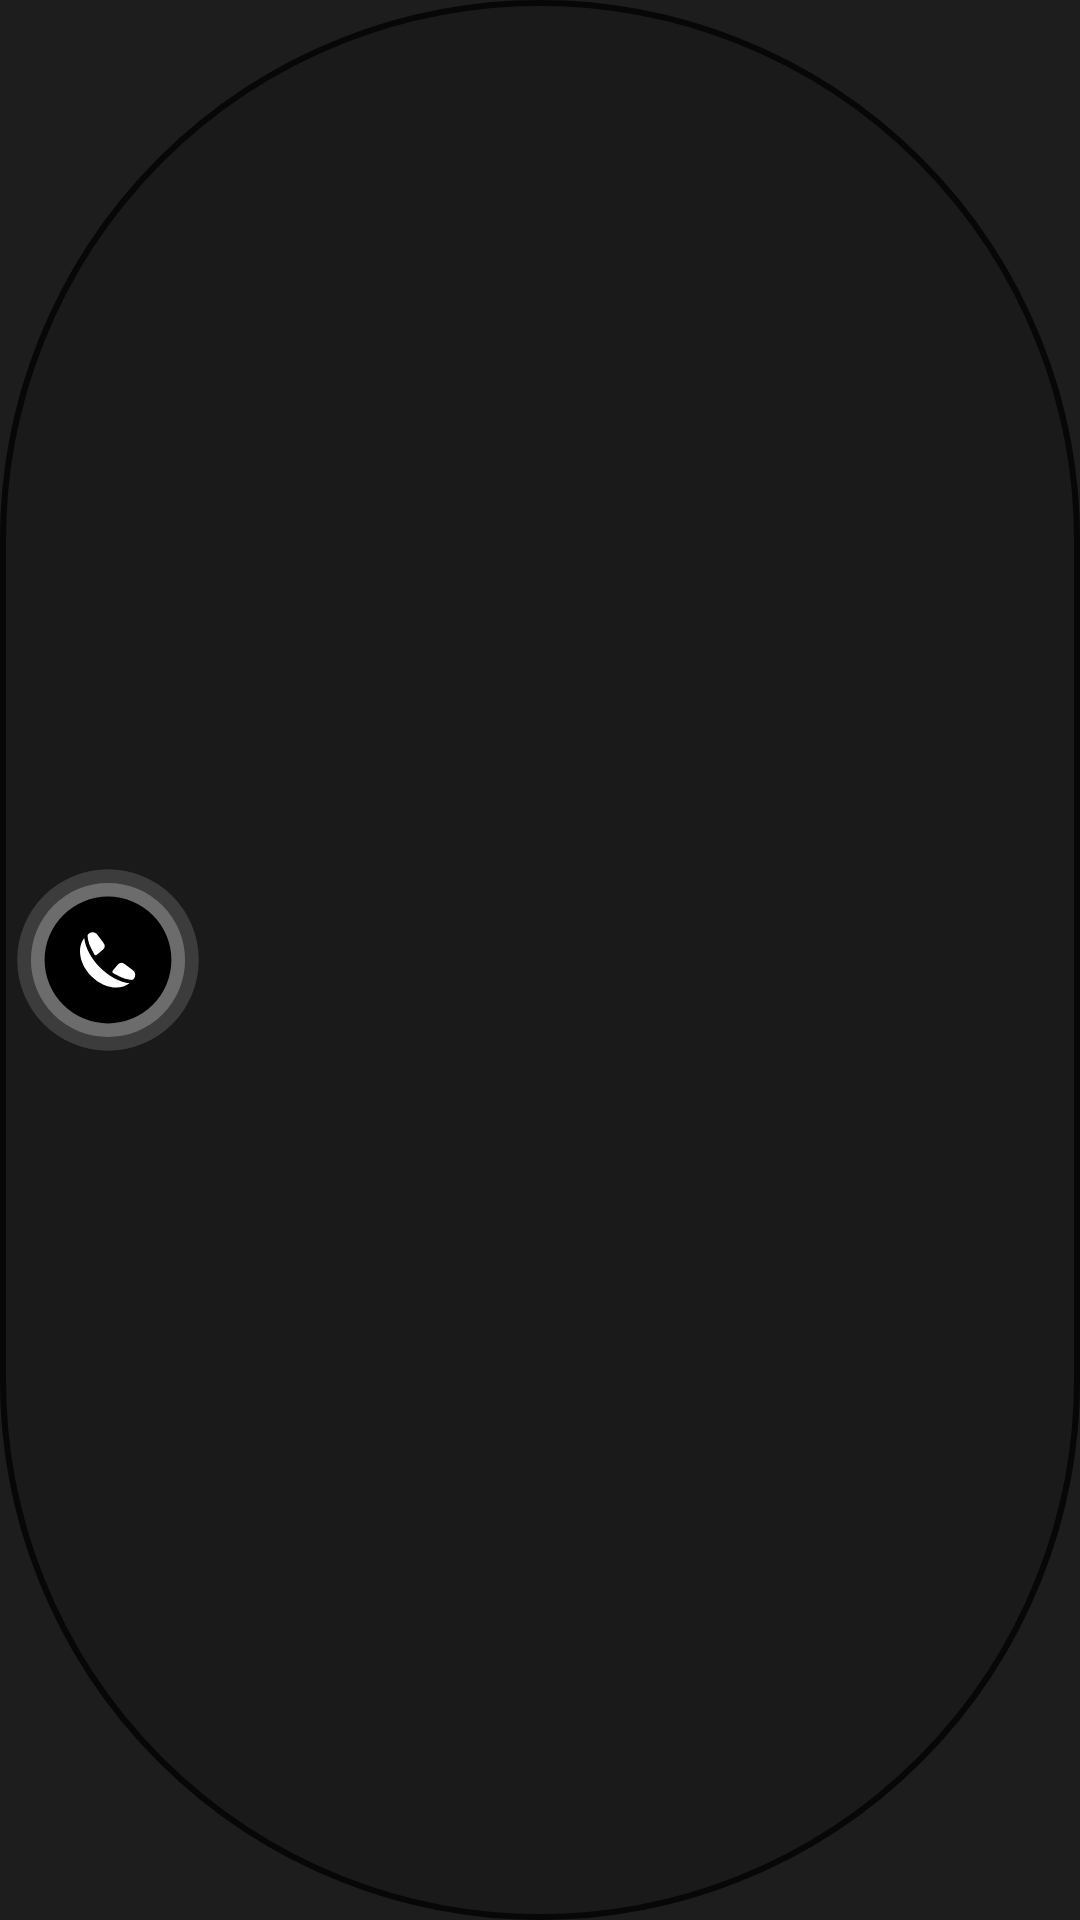

Screen size 1080x1920. Icon name, then its center in pixels as point (x, y):
contact: point (108, 960)
